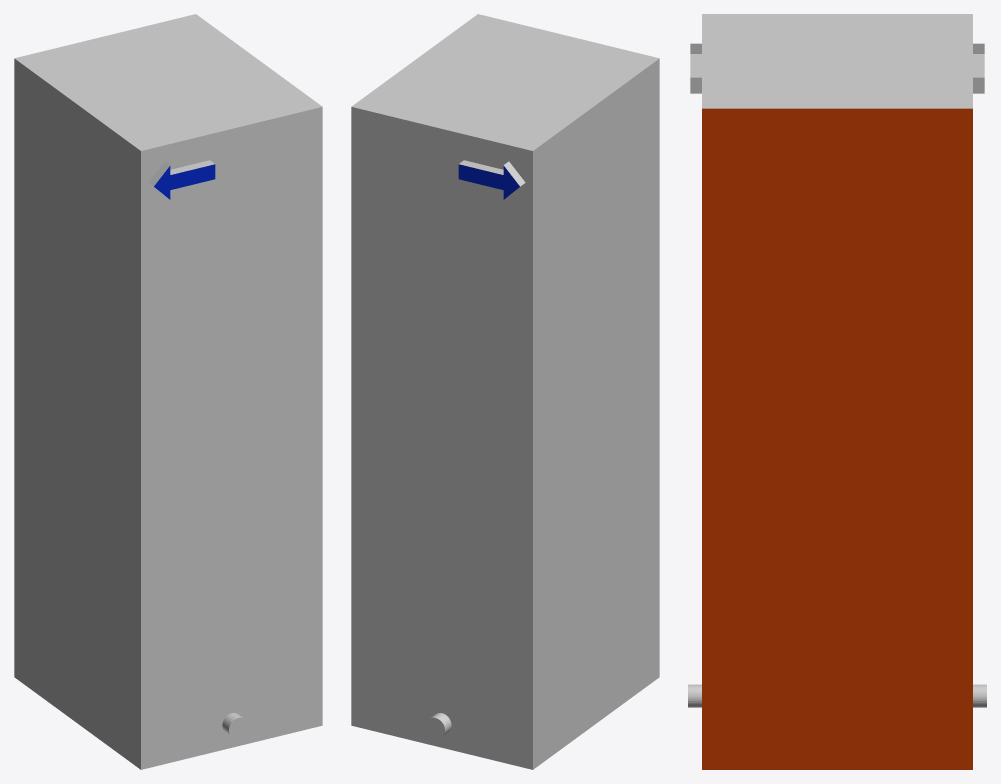
The picture shows the model from 3 angles, left to right: view 1: azimuth 30°, elevation 25°; view 2: azimuth 150°, elevation 25°; view 3: azimuth 270°, elevation 25°; orthographic projection. The views are drawn at different scales.
Visible parts, largest first — view 1: BaseLink; view 2: BaseLink; view 3: BaseLink.
Boxes of the visible parts, left/top/right/bottom form: BaseLink: left=14, top=14, right=322, bottom=769; BaseLink: left=351, top=14, right=659, bottom=769; BaseLink: left=688, top=14, right=986, bottom=769.
Bounding box in the file's own units: 0.48 × 0.64 × 1.56.
